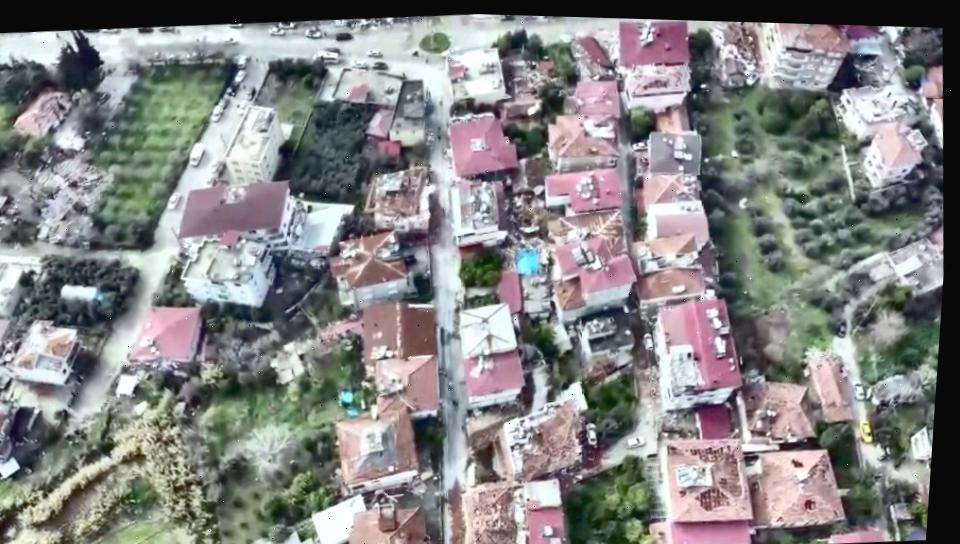kapali: (444, 471, 478, 544)
